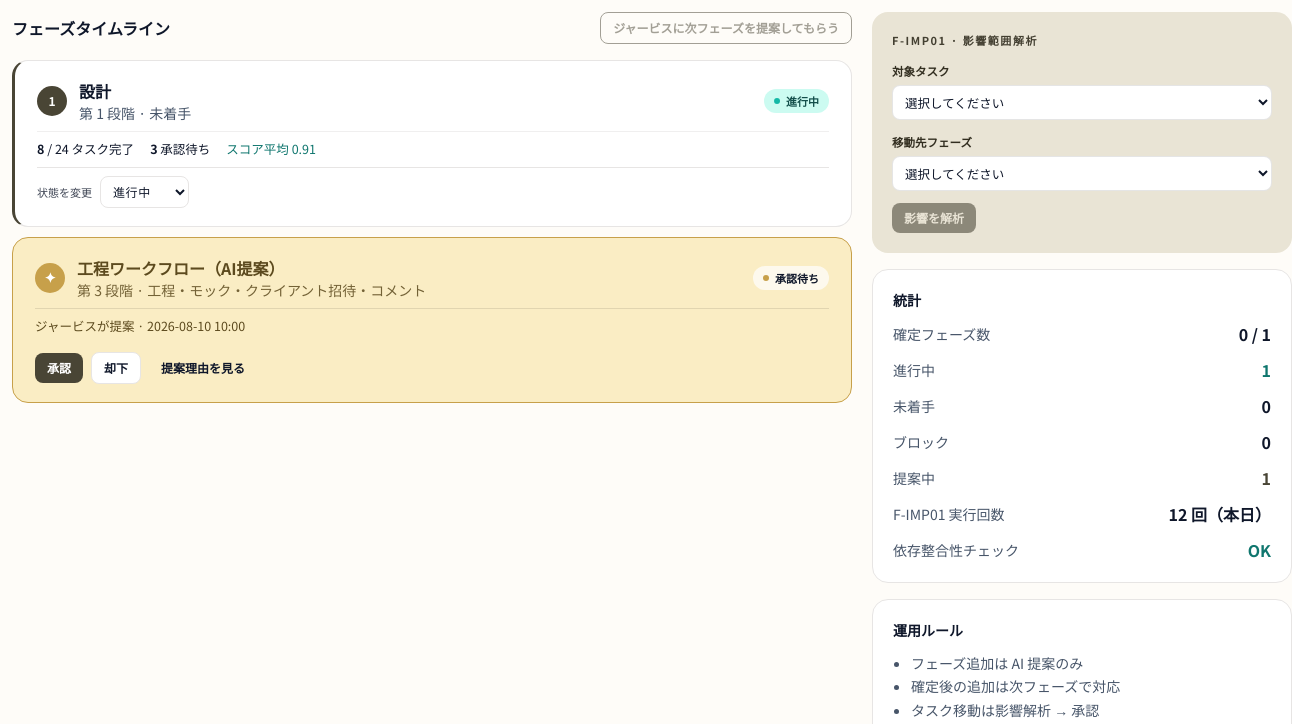
Scenario: S-F02 GAP-022 (AI 提案フェーズ + F-IMP01 + 集計) › approves a pending proposal into a confirmed phase
Click the button "承認" at coordinates (59, 368), box [35,352,83,382]
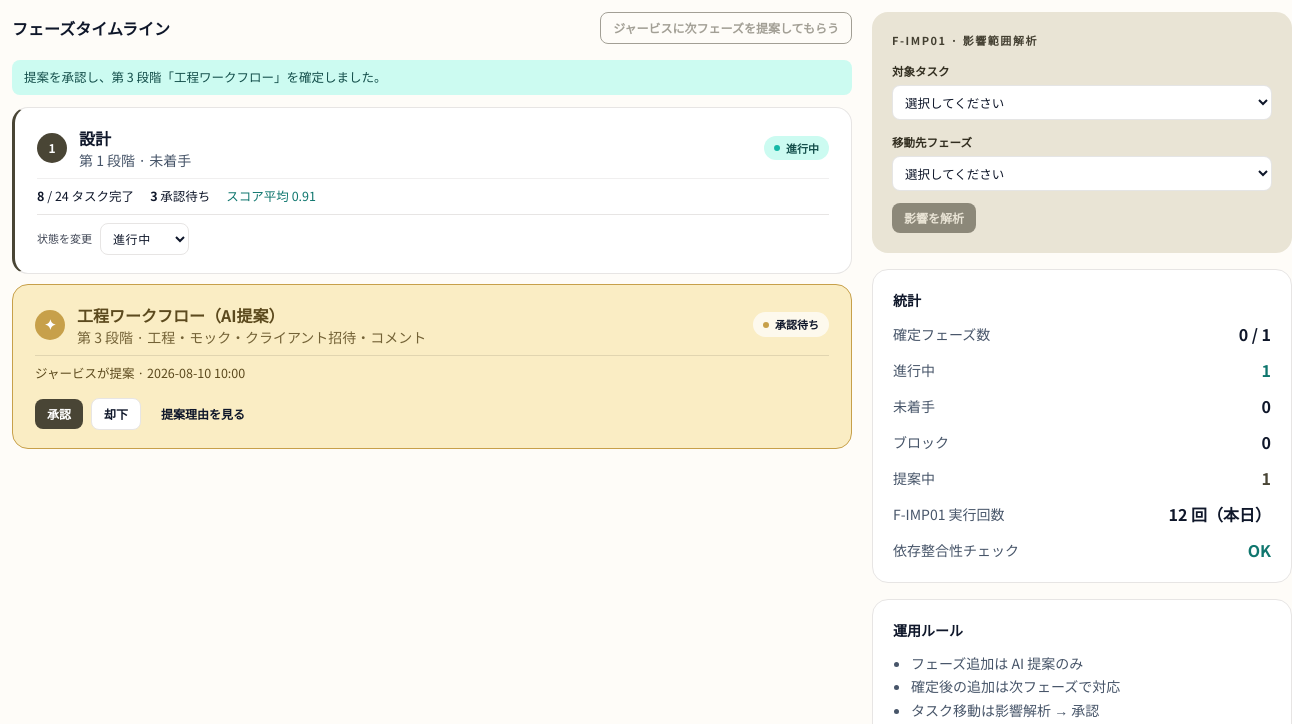
Now the text "提案を承認し、第 3 段階「工程ワークフロー」を確定しました。" is shown, box [12,60,852,95]
